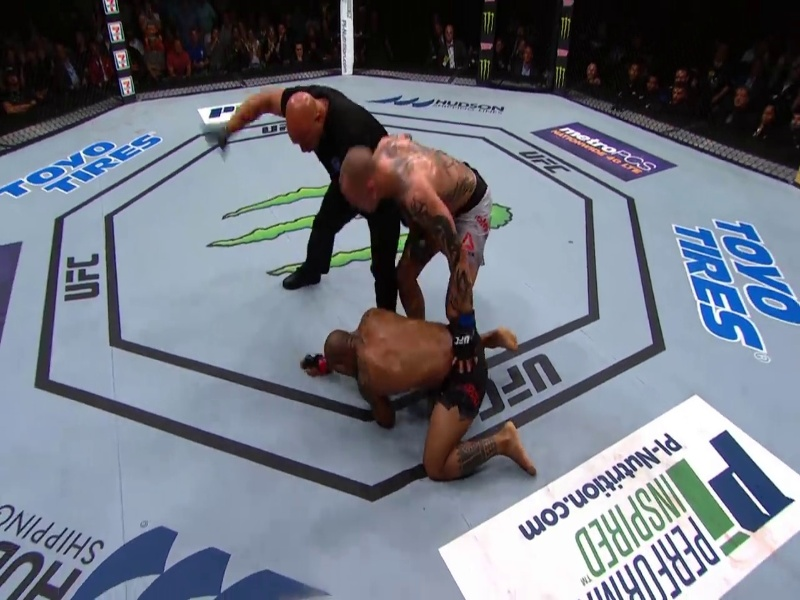fighter: (296, 306, 542, 499), (331, 130, 525, 368)
